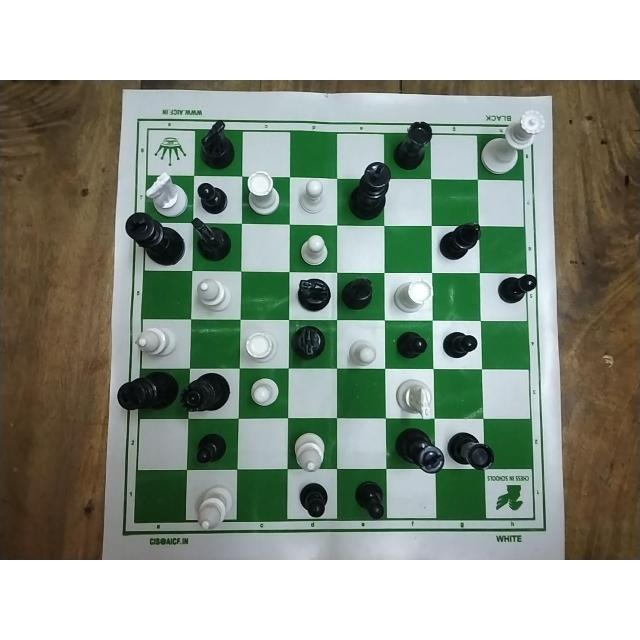black-knight: (194, 118, 237, 168), (189, 214, 229, 265), (286, 321, 327, 364), (293, 276, 335, 316)
black-rook: (391, 116, 434, 171), (446, 425, 496, 469)
white-bishop: (191, 483, 235, 527), (133, 322, 177, 362), (195, 275, 234, 314), (292, 432, 328, 472)
white-knight: (393, 374, 440, 421), (145, 174, 189, 213)
white-pawn: (299, 178, 331, 218), (298, 233, 329, 267), (346, 338, 382, 367), (248, 376, 280, 408)
white-queen: (481, 107, 549, 174)
white-rook: (247, 171, 285, 219), (391, 280, 433, 314), (243, 329, 279, 365)
